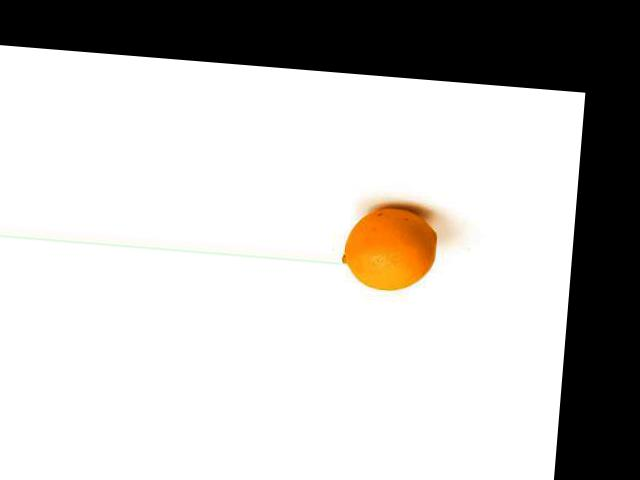lemon: (339, 198, 450, 298)
